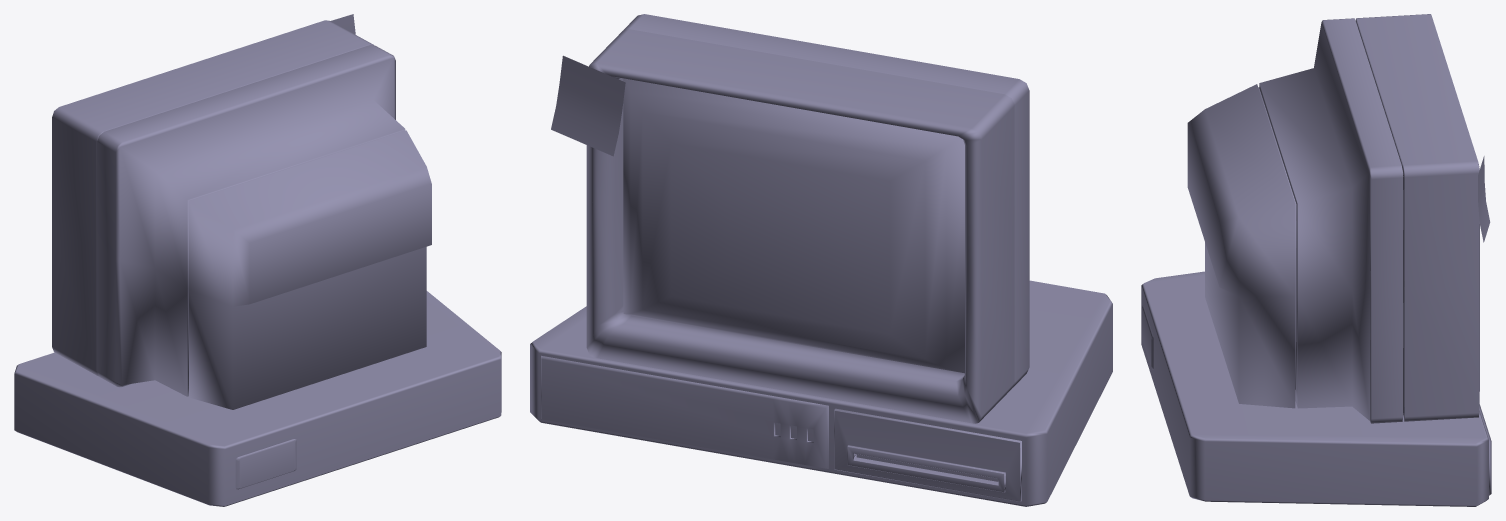
The model's file is B_Monitor.fbx.
3 views of the same model, side by side, from view 1: azimuth 30°, elevation 25°; view 2: azimuth 150°, elevation 25°; view 3: azimuth 270°, elevation 25° (orthographic). The views are drawn at different scales.
Visible parts, largest first — view 1: Box; view 2: Box, Tela, note; view 3: Box, note.
Part boxes in pixels (box(x1,y1,x2,y2)): Box: box(14, 20, 501, 506); Box: box(530, 14, 1112, 506); Tela: box(623, 78, 964, 373); note: box(551, 55, 625, 156); Box: box(1141, 14, 1491, 506); note: box(1478, 156, 1490, 242).
Size of the model in its own units: 18.49 by 13.56 by 13.53.
